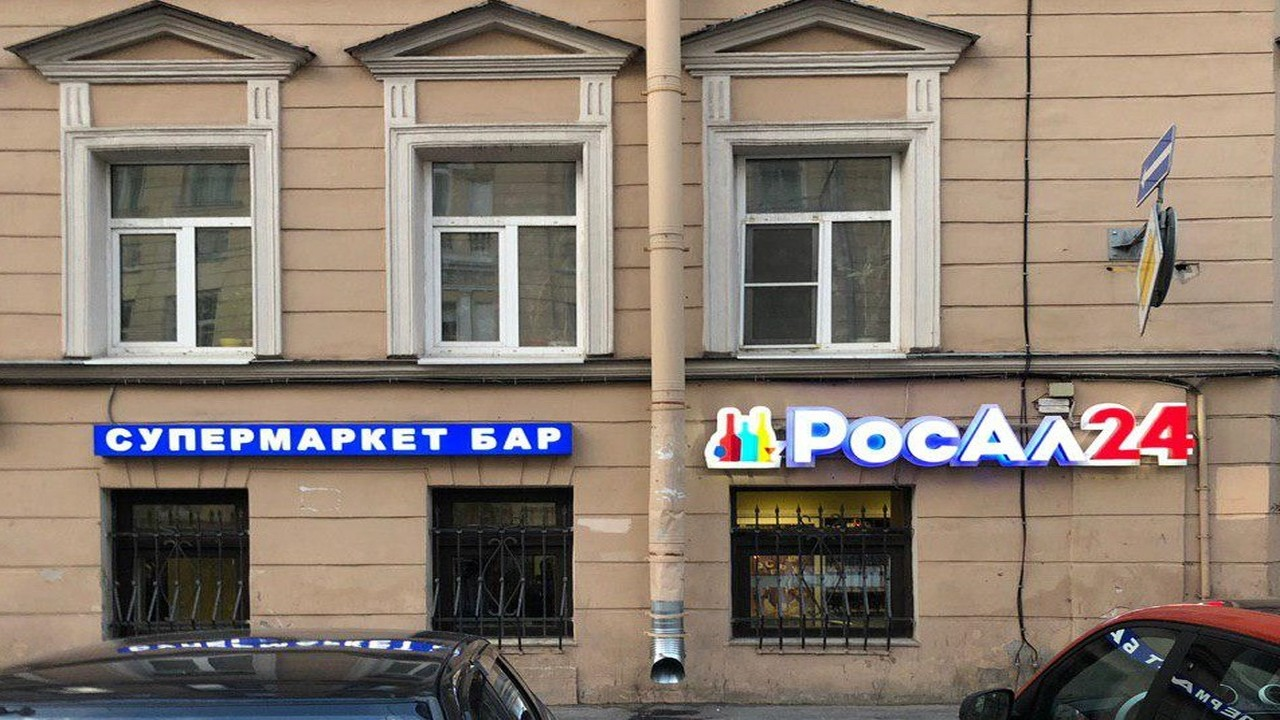signboard: (704, 405, 1195, 465), (93, 423, 572, 454)
window: (740, 157, 897, 347), (422, 158, 577, 350), (105, 162, 248, 359), (732, 485, 915, 637), (104, 490, 247, 634), (434, 491, 571, 639)
